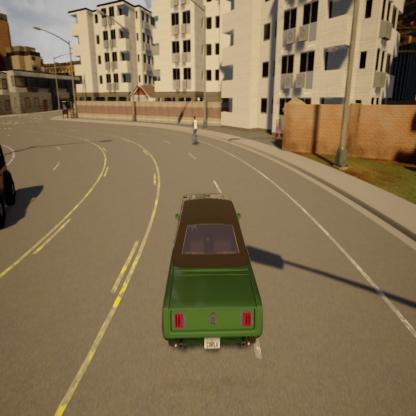Cars: (158, 181, 263, 364), (0, 119, 27, 232)
